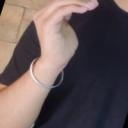hand: (32, 0, 100, 68)
